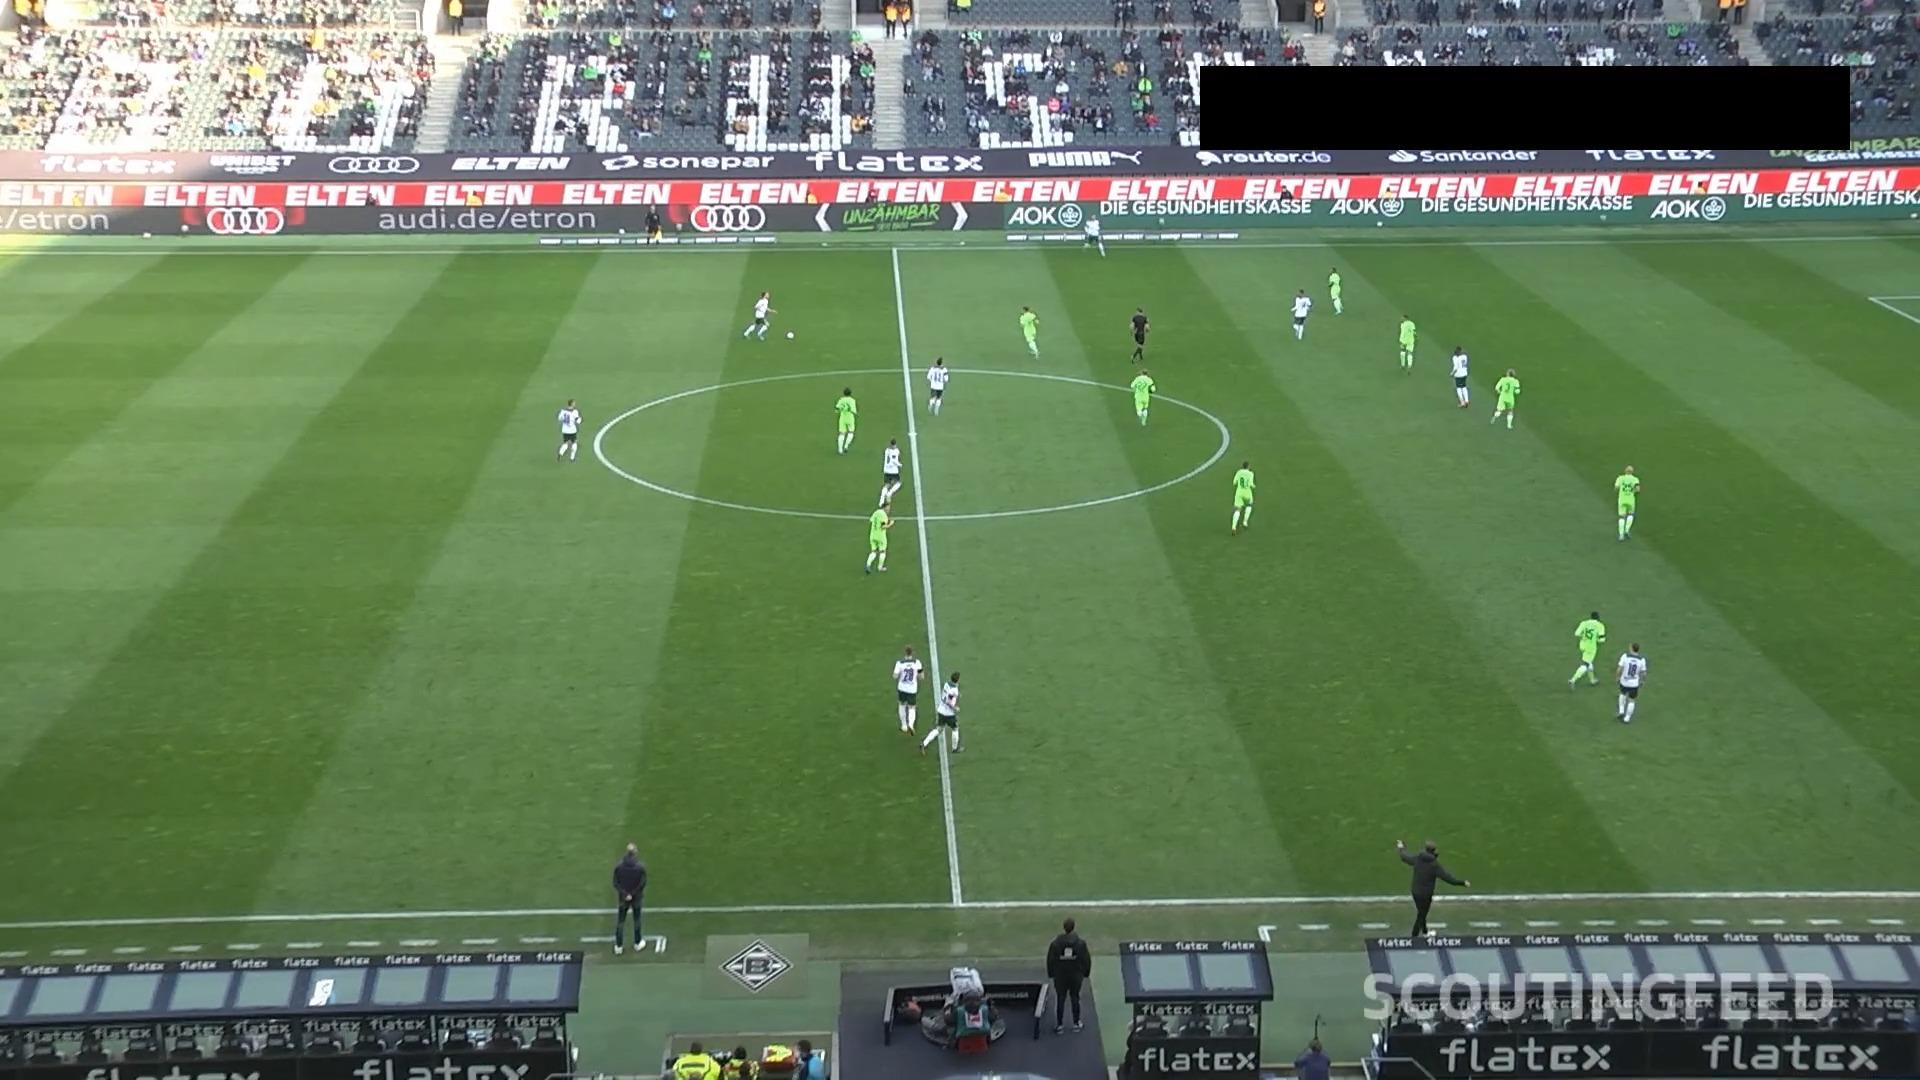ball: (785, 330, 796, 342)
